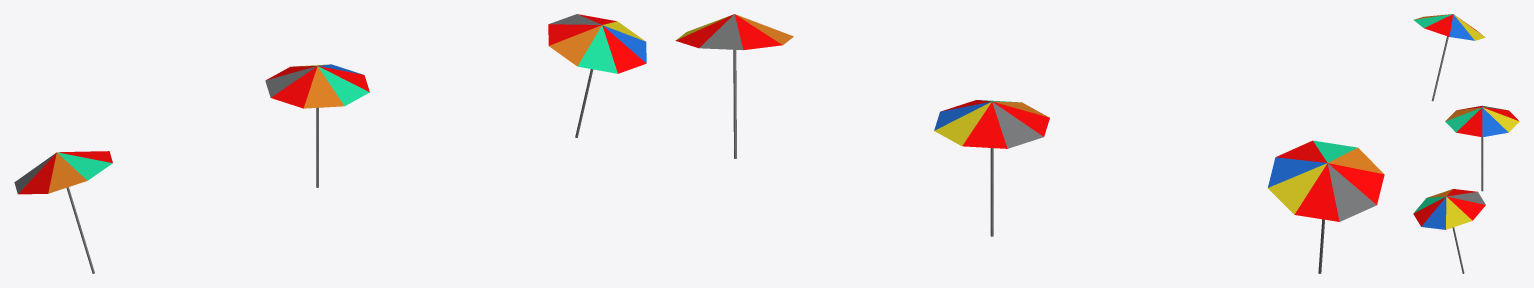
File: Umbrellas.fbx
3 views of the same model, side by side, from view 1: azimuth 30°, elevation 25°; view 2: azimuth 150°, elevation 25°; view 3: azimuth 270°, elevation 25° (orthographic). The views are drawn at different scales.
Visible parts, largest first — view 1: Umbrela; view 2: Umbrela; view 3: Umbrela.
Boxes of the visible parts, x1,y1,x2,y2 form: Umbrela: [14, 14, 646, 273]; Umbrela: [675, 14, 1384, 273]; Umbrela: [1413, 14, 1519, 273].
Size of the model in its own units: 1443 by 268 by 309.
